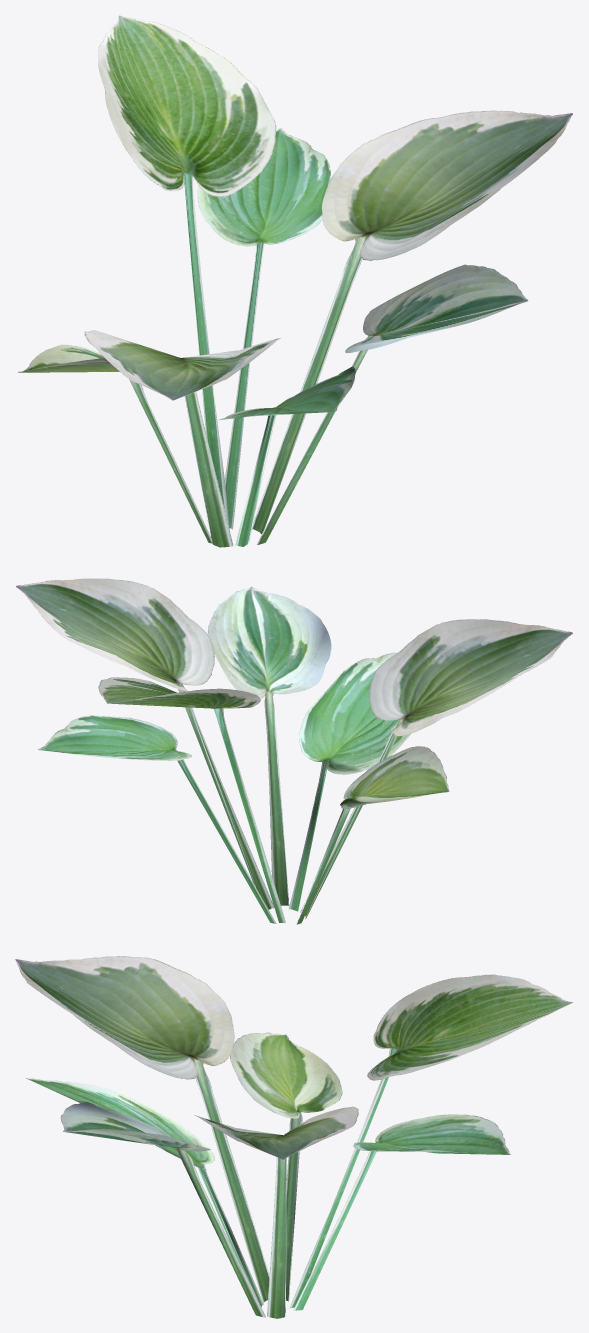
The model's file is plant_small_wg_00M_wild.fbx.
The picture shows the model from 3 angles, top to bottom: view 1: azimuth 30°, elevation 25°; view 2: azimuth 150°, elevation 25°; view 3: azimuth 270°, elevation 25°; orthographic projection. The views are drawn at different scales.
Visible parts, largest first — view 1: plant_small_wg_00M_wild; view 2: plant_small_wg_00M_wild; view 3: plant_small_wg_00M_wild.
Part boxes in pixels (<box>): plant_small_wg_00M_wild: <box>18,15,572,547</box>; plant_small_wg_00M_wild: <box>16,578,572,924</box>; plant_small_wg_00M_wild: <box>15,956,572,1318</box>.
Size of the model in its own units: 49.33 by 32.49 by 49.16.
